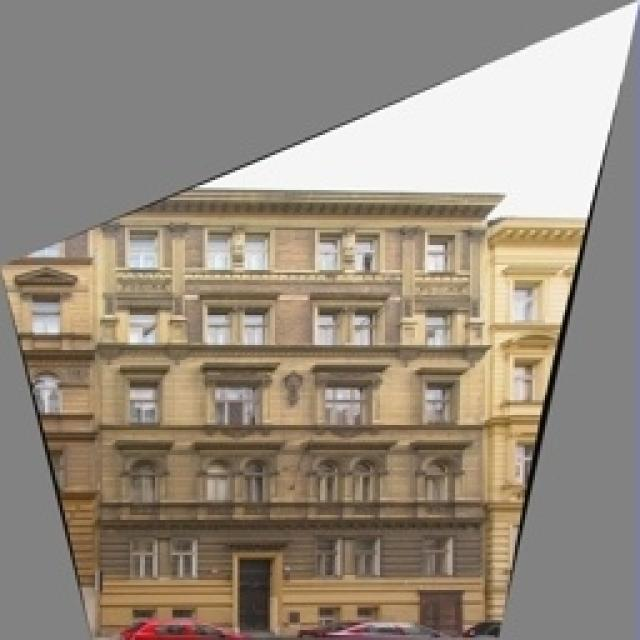building: (73, 160, 495, 640)
